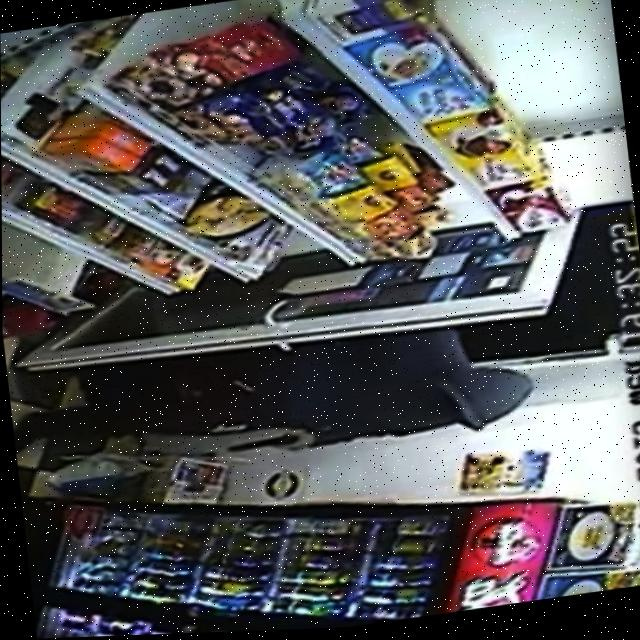pistol: (223, 433, 302, 455)
